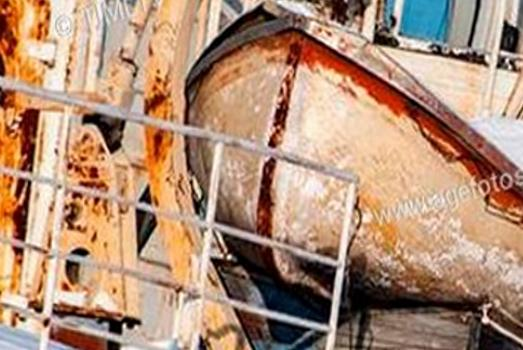rust: (332, 38, 523, 215), (247, 20, 311, 279), (1, 2, 39, 302), (61, 117, 123, 296), (141, 60, 189, 232)
